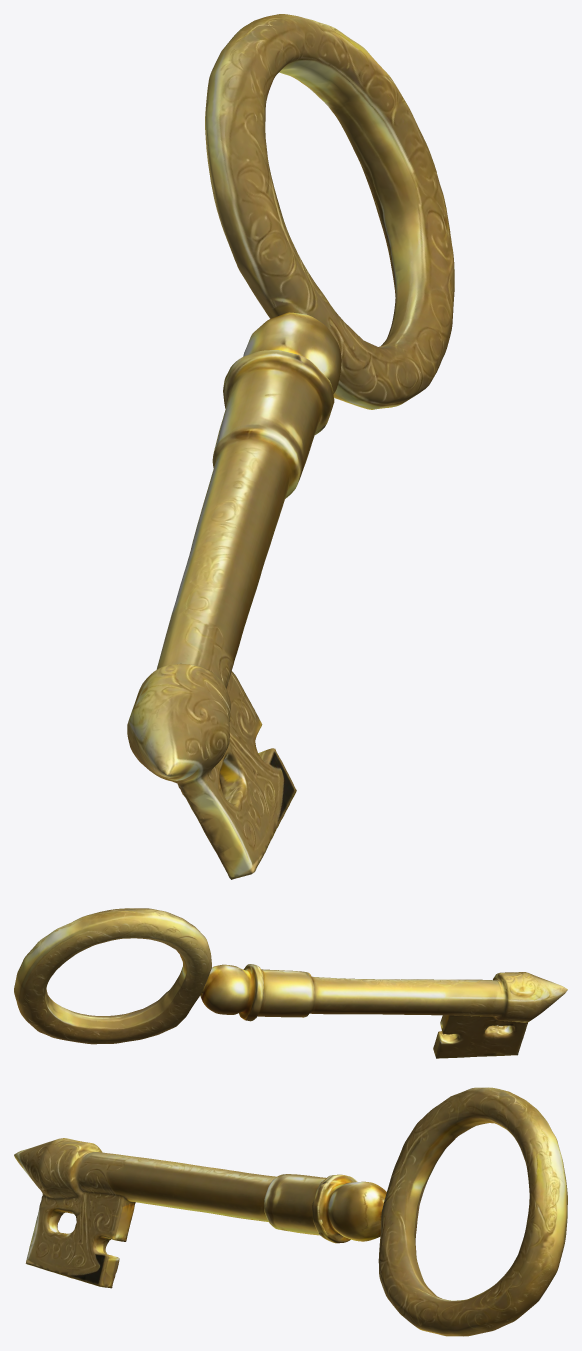
Rendered from golden_key.glb.
3 renders of one model, top to bottom at view 1: azimuth 30°, elevation 25°; view 2: azimuth 150°, elevation 25°; view 3: azimuth 270°, elevation 25°, orthographic. The views are drawn at different scales.
Bounding box in the file's own units: 1.77 × 1.16 × 1.99.
1 material, 1 textured.
